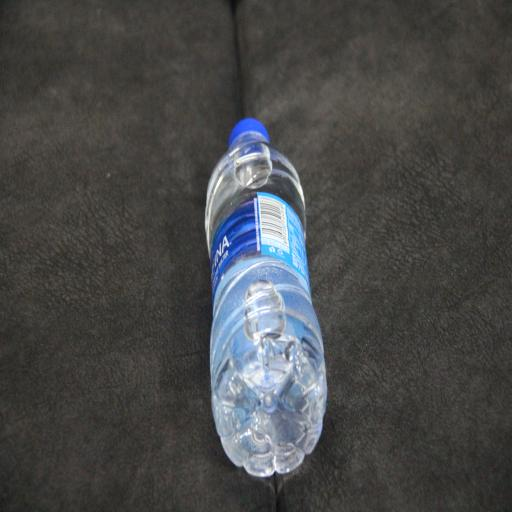Aquafina: (205, 118, 327, 477)
